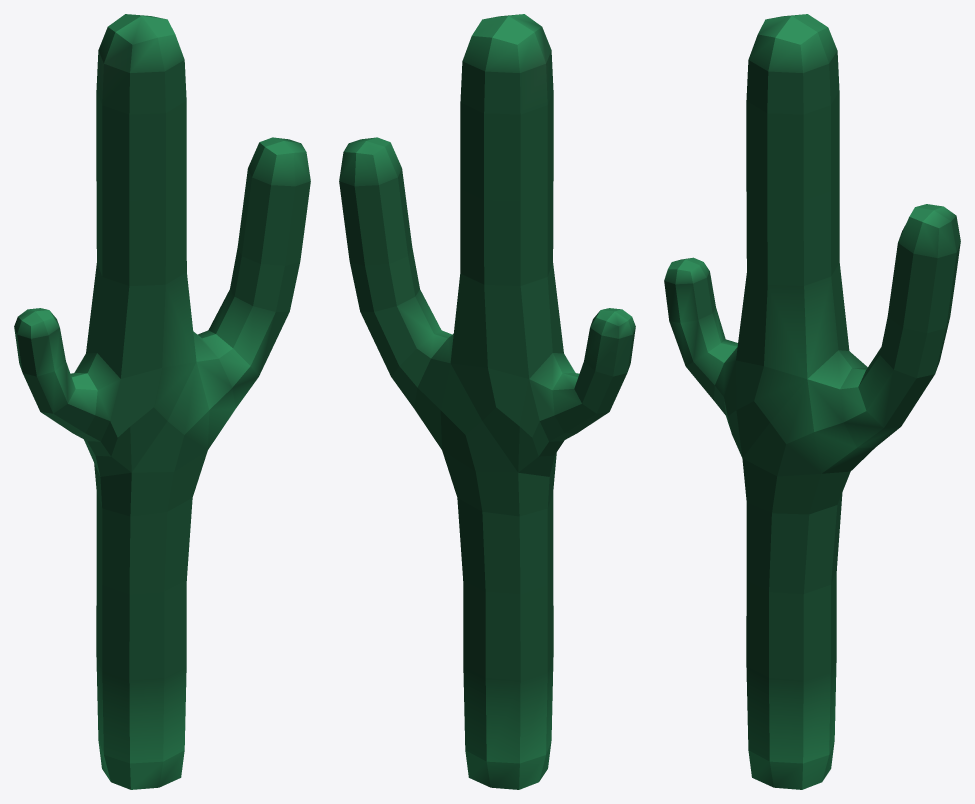
Rendered from Vegetetation 01.fbx.
3 renders of one model, left to right at view 1: azimuth 30°, elevation 25°; view 2: azimuth 150°, elevation 25°; view 3: azimuth 330°, elevation 25°, orthographic.
Visible parts, largest first — view 1: Vegetetation 01_LOD0; view 2: Vegetetation 01_LOD0; view 3: Vegetetation 01_LOD0.
Boxes of the visible parts, x1,y1,x2,y2 form: Vegetetation 01_LOD0: (14, 14, 310, 789); Vegetetation 01_LOD0: (339, 14, 635, 789); Vegetetation 01_LOD0: (664, 14, 960, 789).
Size of what is drawn, in the model's own units: 40.74 by 102 by 12.12.
